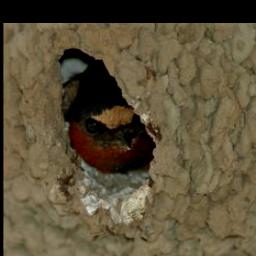Swallow: (67, 62, 156, 174)
